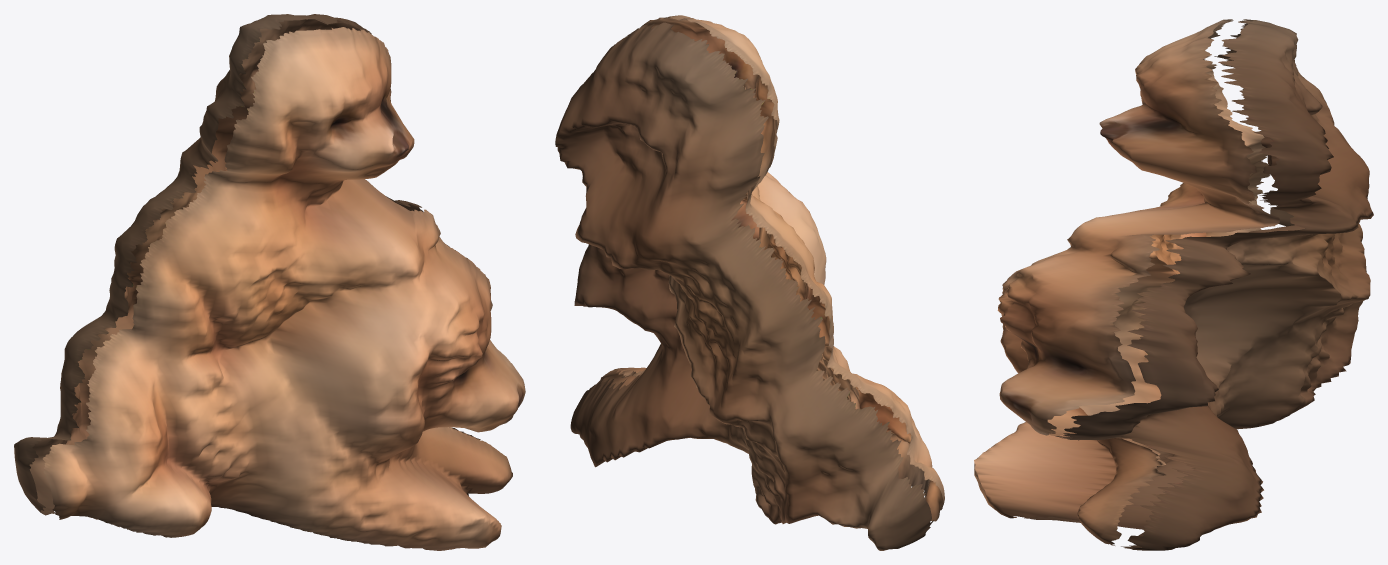
The model's file is 10-poodle-wax.glb.
3 renders of one model, left to right at view 1: azimuth 30°, elevation 25°; view 2: azimuth 150°, elevation 25°; view 3: azimuth 270°, elevation 25°, orthographic.
Size of the model in its own units: 0.944 by 0.9986 by 0.7929.
1 material, 1 textured.
